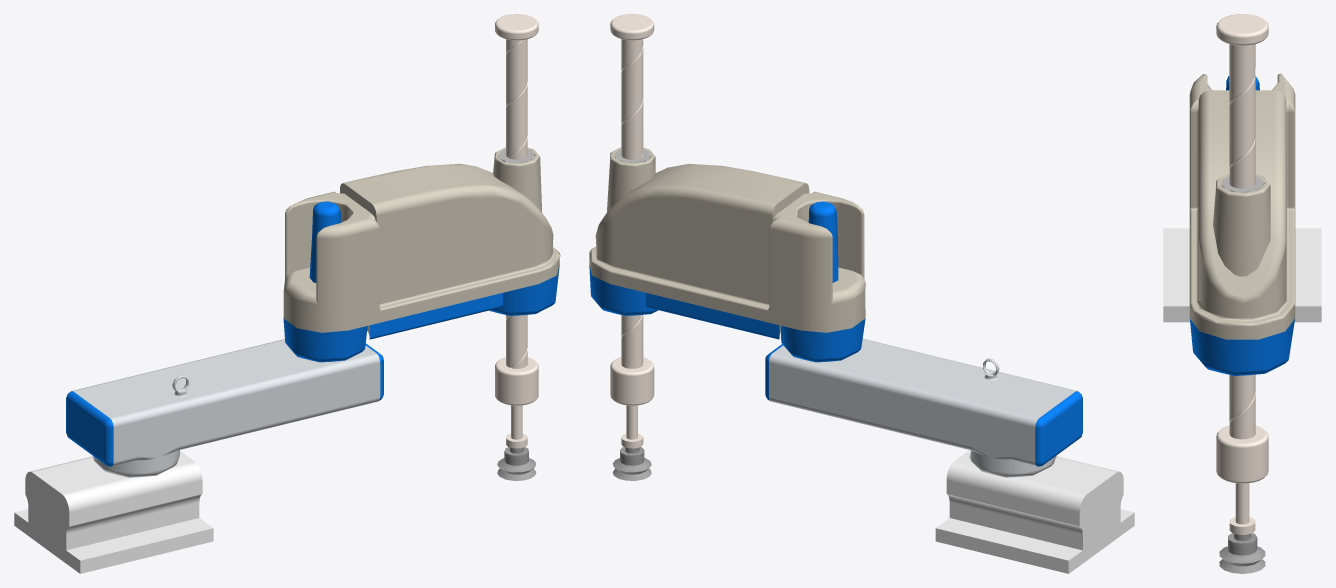
File: 4robot.obj
3 renders of one model, left to right at view 1: azimuth 30°, elevation 25°; view 2: azimuth 150°, elevation 25°; view 3: azimuth 270°, elevation 25°, orthographic. The views are drawn at different scales.
Parts seen in each view (by area): view 1: oj2, oj1, odg_robot, oj4, oj5; view 2: oj2, oj1, odg_robot, oj4, oj5; view 3: oj2, oj4, odg_robot, oj5, oj3.
Part boxes in pixels (left/top/right/bottom): oj2: left=283, top=147, right=560, bottom=362; oj1: left=66, top=339, right=383, bottom=477; odg_robot: left=14, top=451, right=213, bottom=573; oj4: left=495, top=14, right=538, bottom=448; oj5: left=497, top=447, right=536, bottom=480; oj2: left=589, top=147, right=865, bottom=362; oj1: left=765, top=338, right=1082, bottom=477; odg_robot: left=935, top=450, right=1134, bottom=573; oj4: left=610, top=14, right=654, bottom=448; oj5: left=612, top=447, right=651, bottom=480; oj2: left=1189, top=73, right=1295, bottom=375; oj4: left=1216, top=14, right=1268, bottom=534; odg_robot: left=1163, top=228, right=1321, bottom=322; oj5: left=1219, top=533, right=1265, bottom=573; oj3: left=1221, top=176, right=1264, bottom=192.
Size of the model in its own units: 0.7989 by 0.6784 by 0.18.
